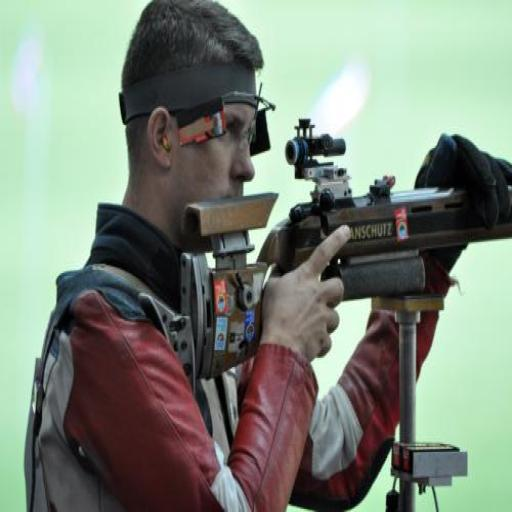shooting: (21, 0, 510, 510)
